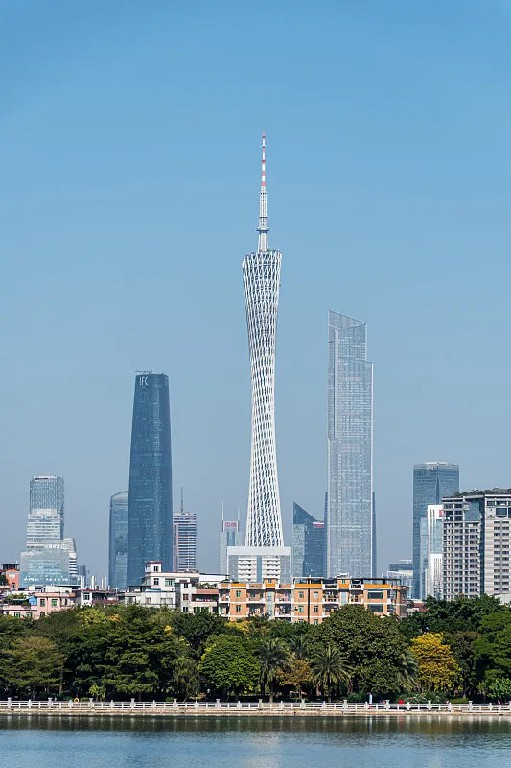Canton: (241, 133, 284, 546)
